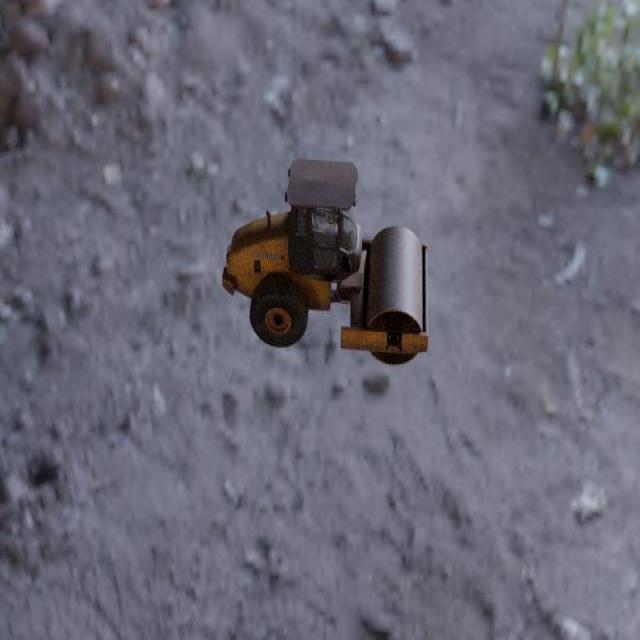Roller: (221, 157, 428, 366)
